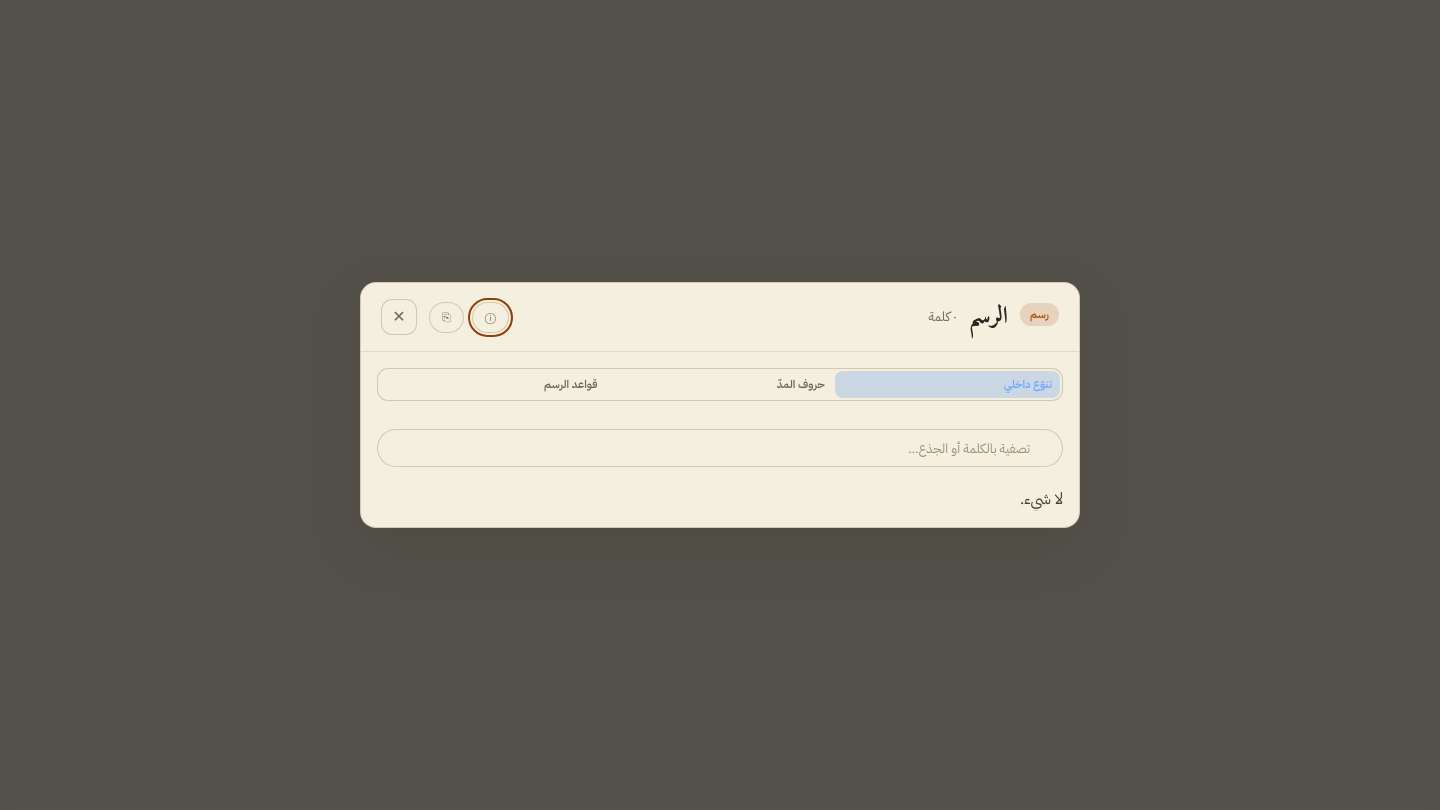
Test: RasmLabModal › drills the canon: rule cards → group cards → group entries → entry profile, with layered back
The width and height of the screenshot is (1440, 810).
Click the tab "قواعد الرسم". click: (493, 384)
box: [380, 371, 605, 398]
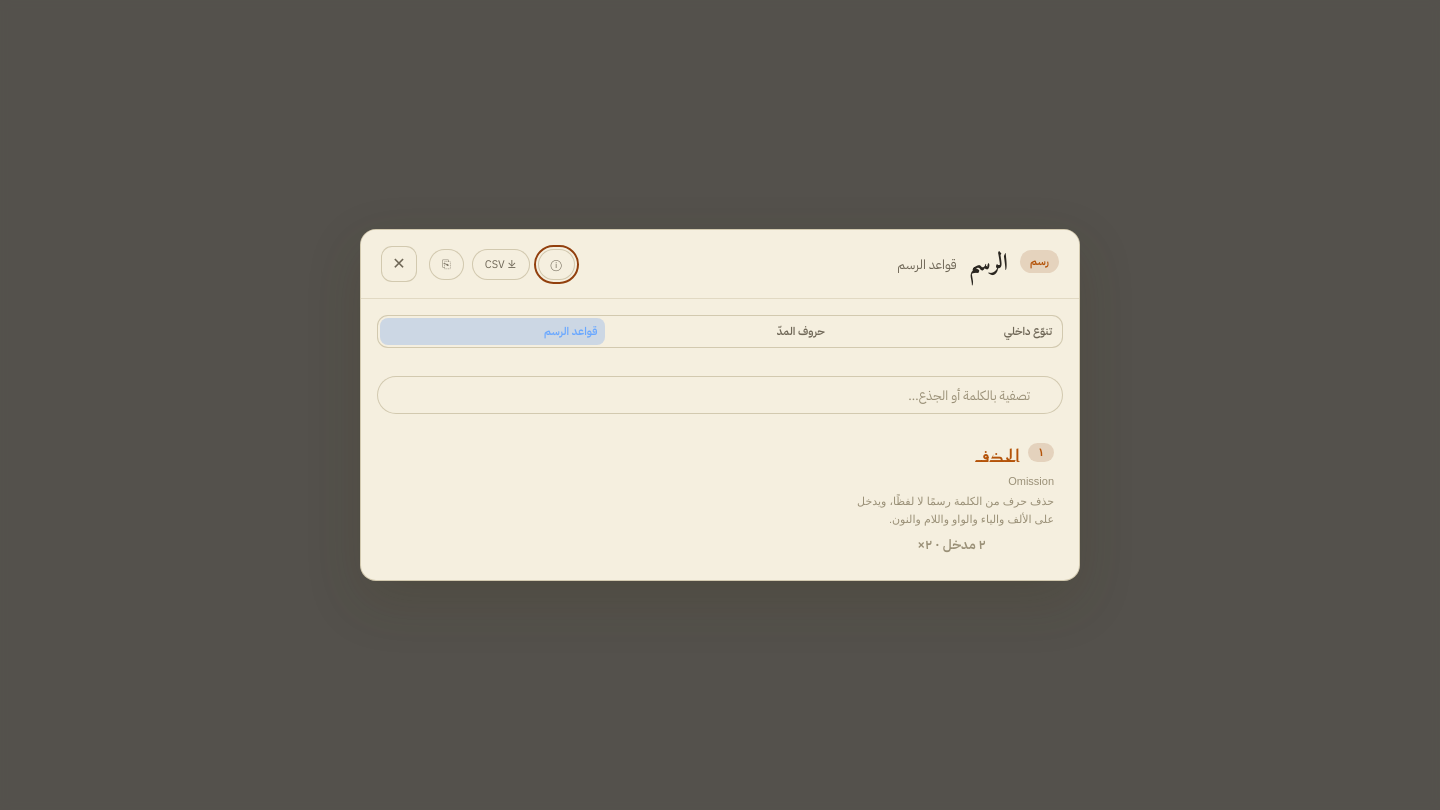
Now the list with class "ag-canon-rules" is shown
Now the button that starts with "الحذف" is shown
Click the button that starts with "الحذف". click: (951, 499)
box: [840, 434, 1063, 564]
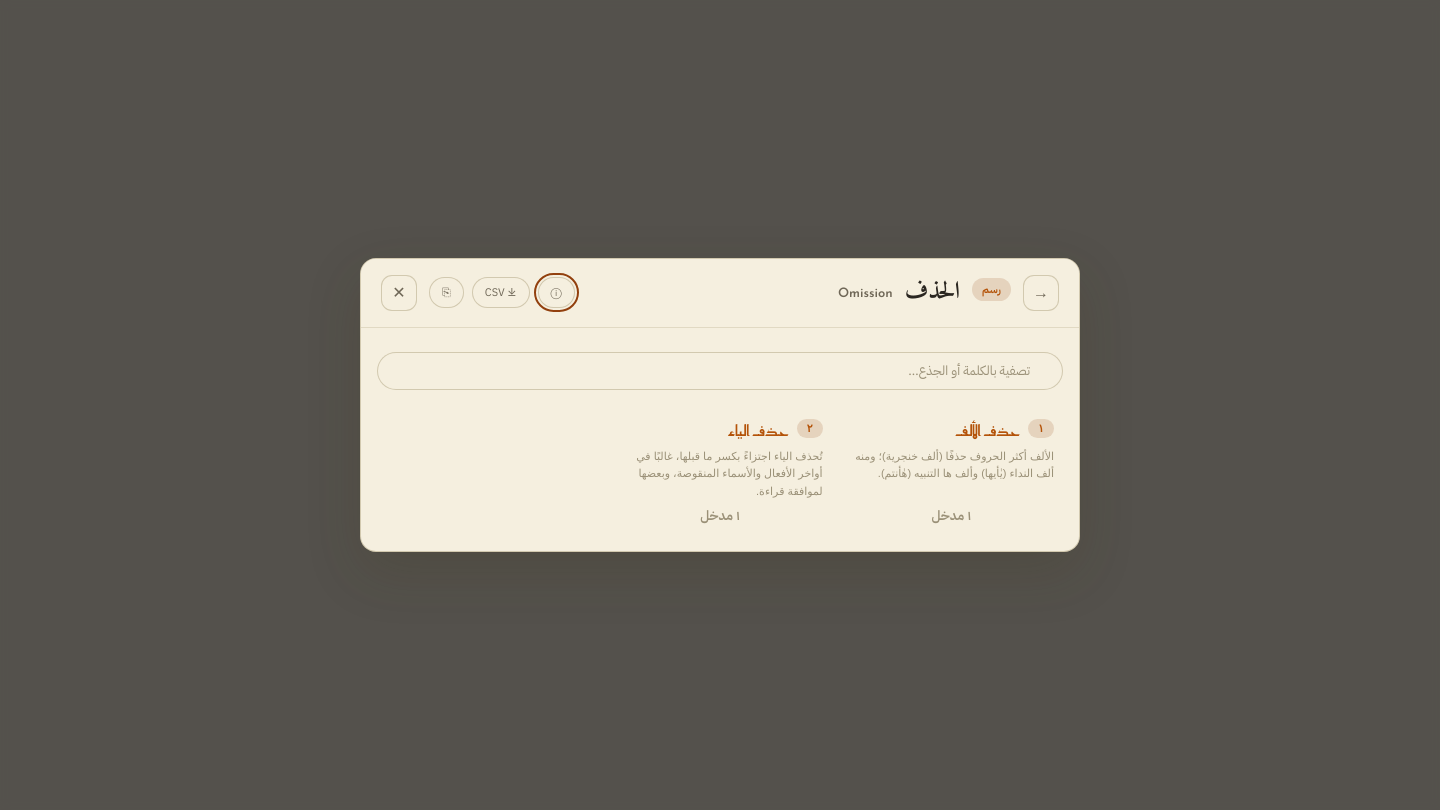
Now the list with class "ag-canon-rules" is shown, box [608, 410, 1063, 535]
Now the button that starts with "حذف الألف" is shown
Click the button that starts with "حذف الألف". click: (951, 472)
box: [840, 410, 1063, 535]
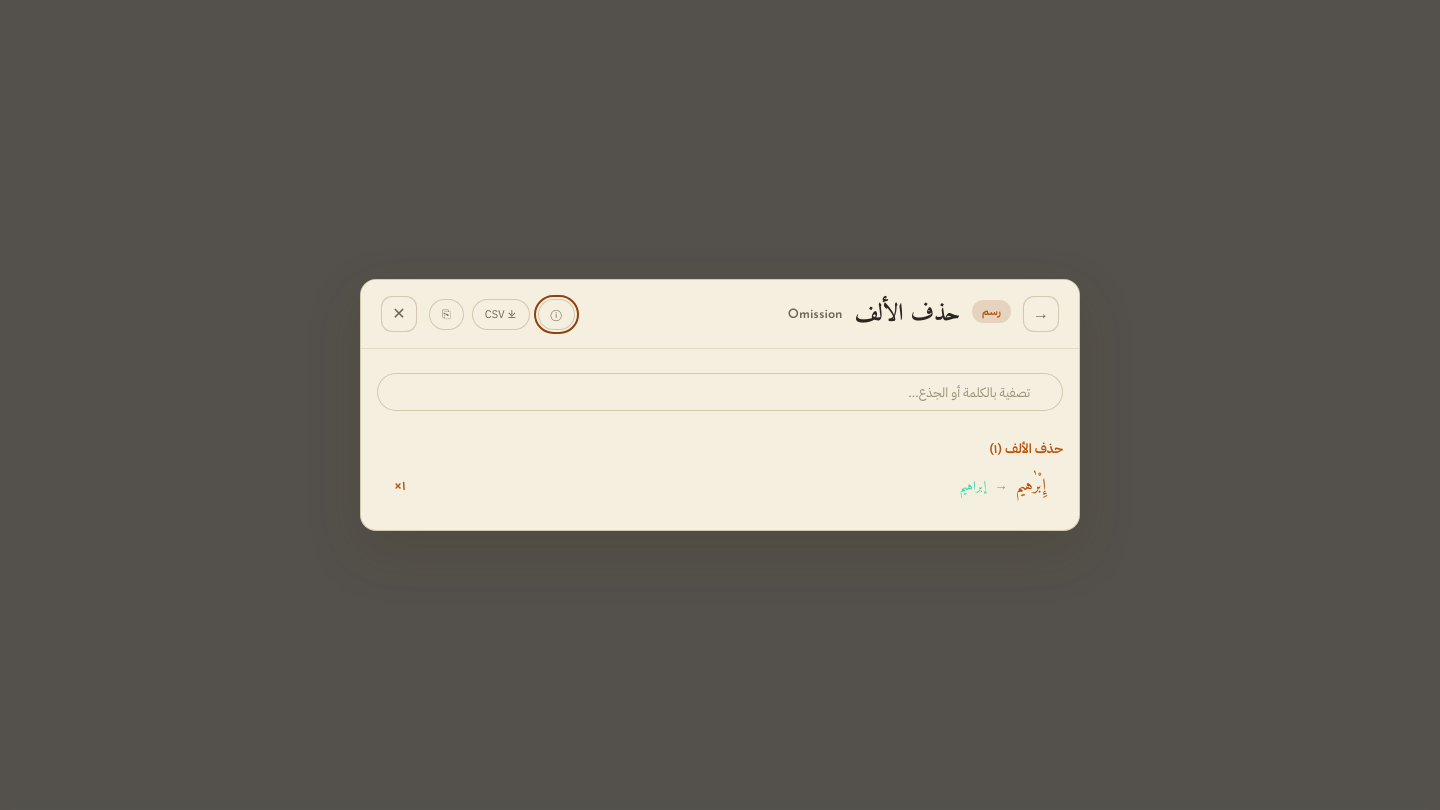
Now the list with class "ag-canon-rules" is gone
Now the text "إبراهيم" is shown, box [960, 475, 986, 498]
Now the button with class "ag-modal-row" is shown
Click the button with class "ag-modal-row". click: (1031, 486)
box: [377, 458, 1063, 514]
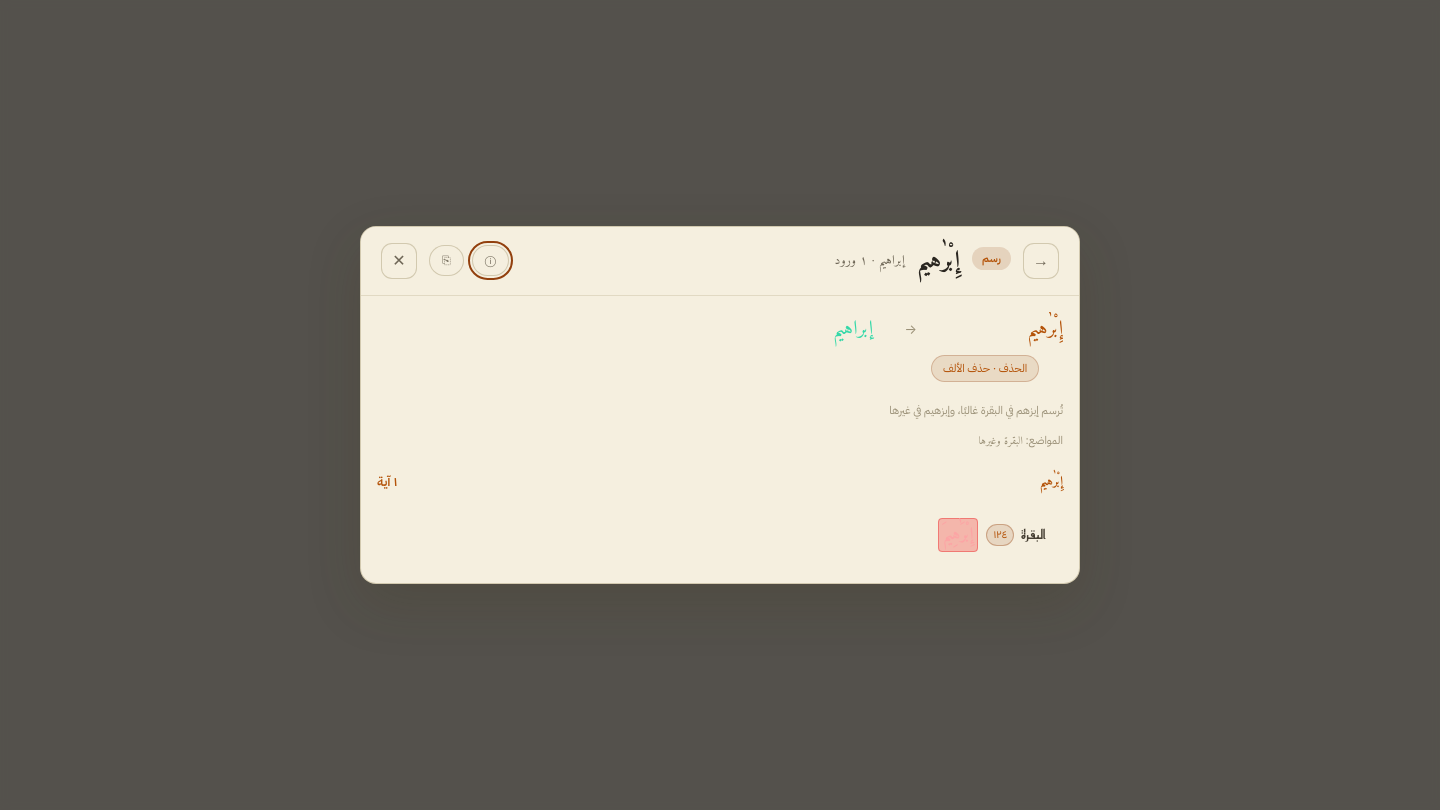
Now the element with class "ag-dist-bars" is shown, box [833, 312, 1063, 382]
Now the element with class "ag-ayah-ref" is shown, box [986, 520, 1046, 546]
Now the text "البقرة" is shown, box [889, 402, 1063, 419]
